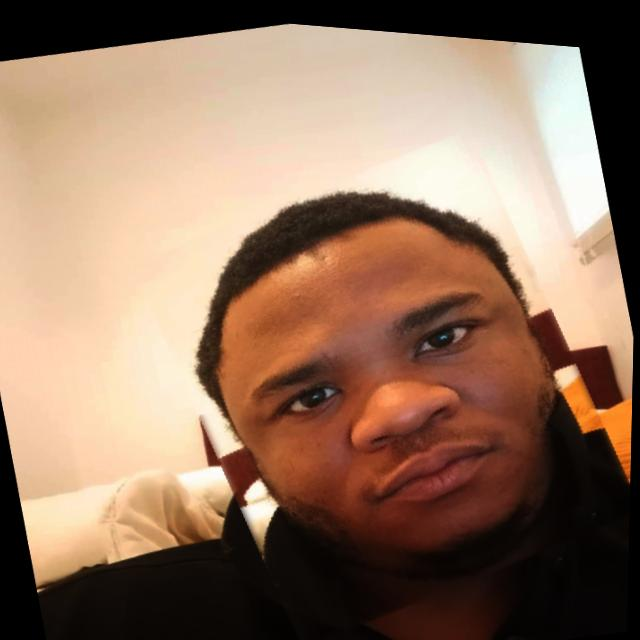sad: (131, 100, 638, 640)
